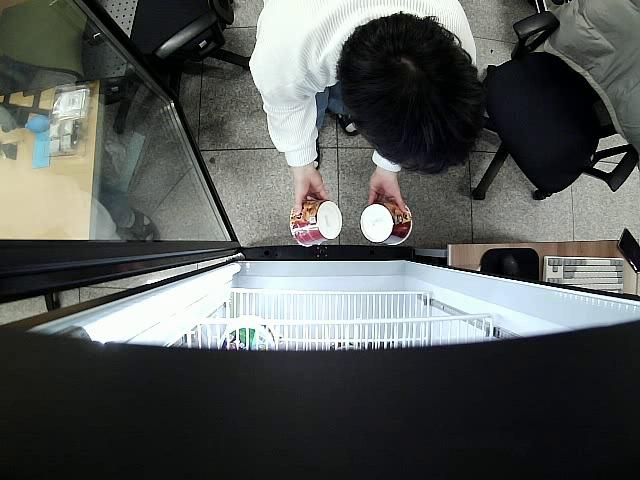00_hand: (291, 164, 329, 219), (365, 169, 406, 217)
05_nuguri_L: (289, 193, 342, 249), (361, 199, 412, 246)
